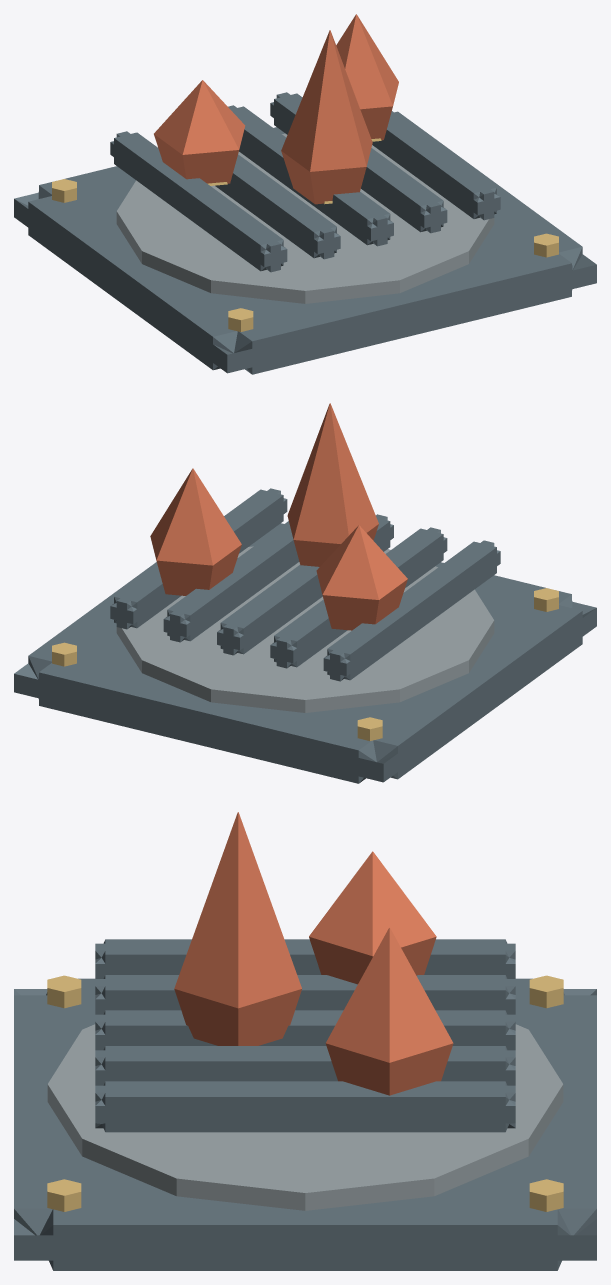
File: TrapScorch.fbx
3 renders of one model, top to bottom at view 1: azimuth 30°, elevation 25°; view 2: azimuth 150°, elevation 25°; view 3: azimuth 270°, elevation 25°, orthographic. The views are drawn at different scales.
Parts seen in each view (by area): view 1: TrapScorch.002; view 2: TrapScorch.002; view 3: TrapScorch.002.
Boxes of the visible parts, <box> form: TrapScorch.002: <box>14,14,596,374</box>; TrapScorch.002: <box>14,403,596,783</box>; TrapScorch.002: <box>14,812,596,1270</box>.
Bounding box in the file's own units: 1.04 × 0.66 × 1.04.
